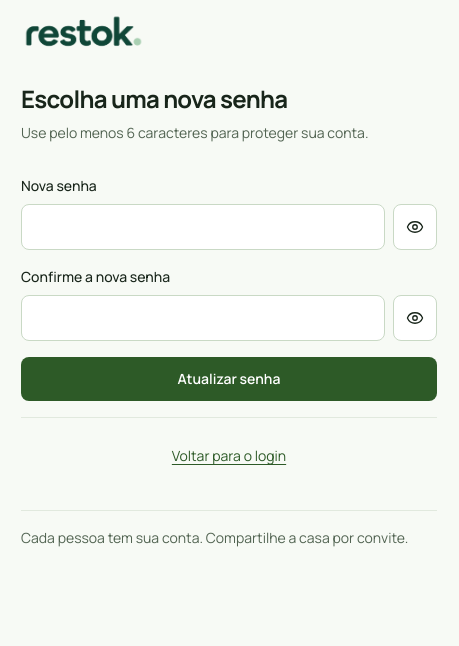
Test: password reset › handles unavailable service or transport failure (false)
This screenshot has width=459, height=646.
In the password field labelled "Nova senha": (203, 227) [21,204,385,250], type "apenas-fixture"
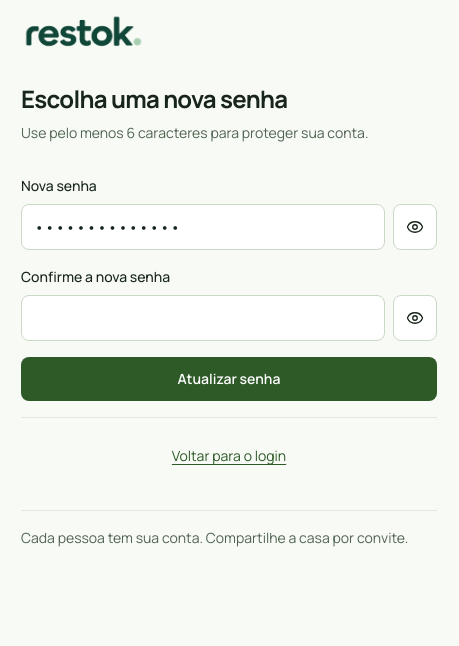
In the password field labelled "Confirme a nova senha": (203, 318) [21,295,385,341], type "apenas-fixture"
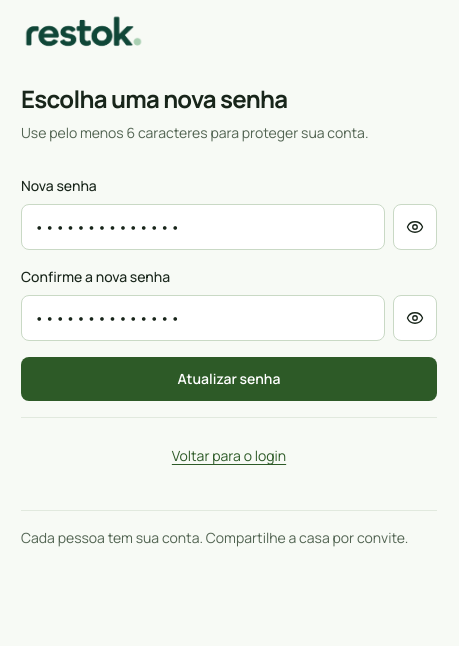
Submit the form named "Escolha uma nova senha", box [21,175,437,478]
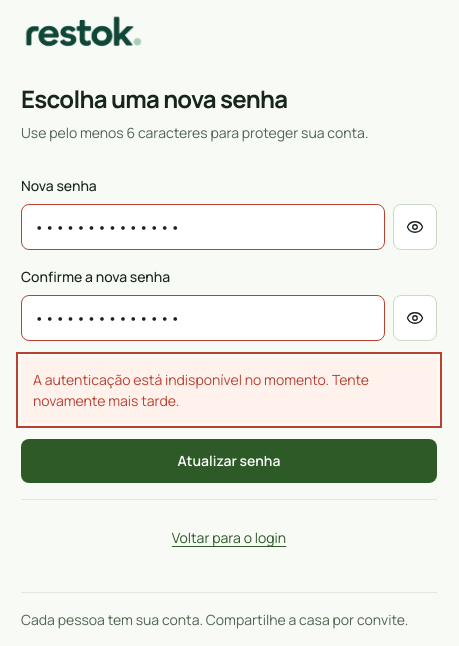
Check: the button "Atualizar senha" is enabled, box [21,439,437,483]
Check: the message shows "indisponível", box [33,370,369,410]
